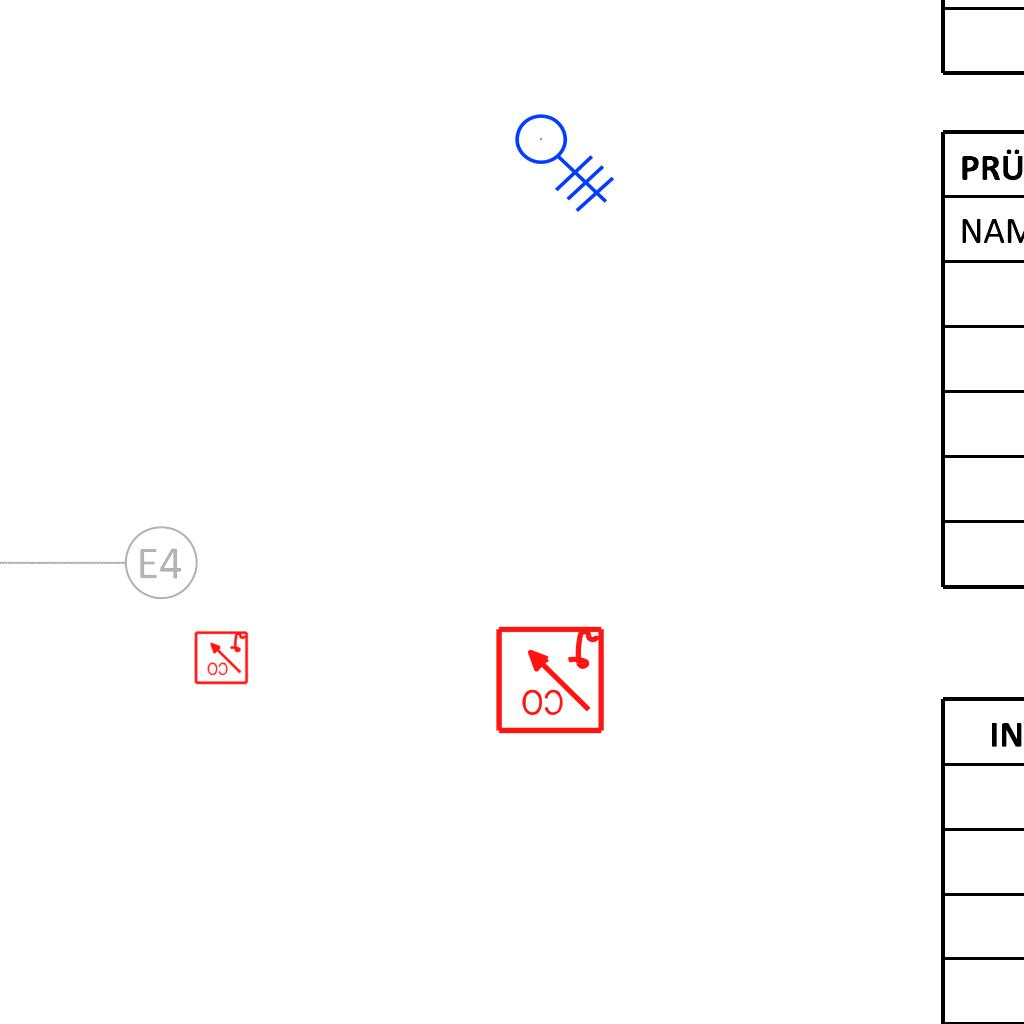Elektroanschluss_allgemein_400V_Geraeteanschlussdose_400V: (514, 97, 627, 213)
ROA_Rauchmelder_optisch_mit_Signalgeber_(Sockelsirene): (493, 622, 606, 735), (193, 629, 249, 685)
